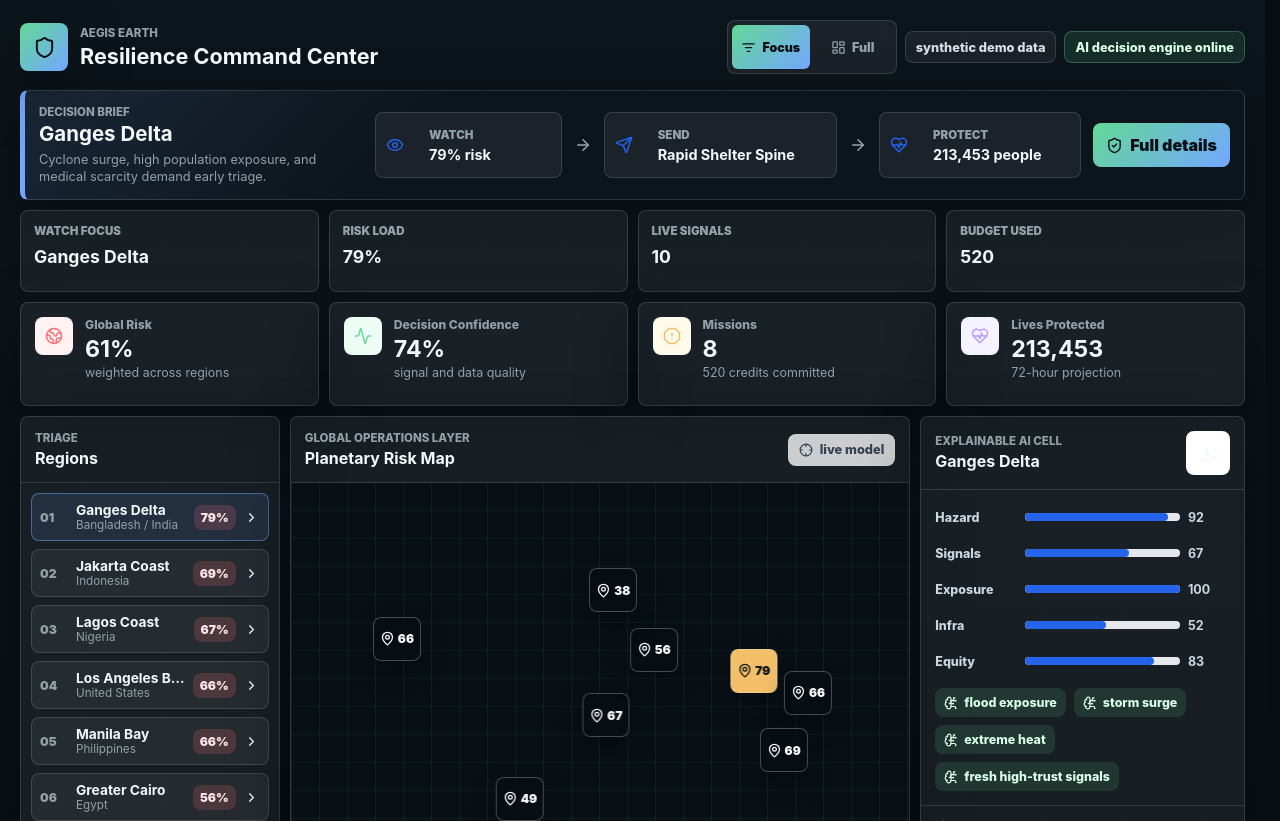
Test: Aegis Earth app › updates the selected region from the triage roster
The width and height of the screenshot is (1280, 821).
Click the button with test id "region-row-la-basin". click: (150, 685)
box: [31,661,269,709]
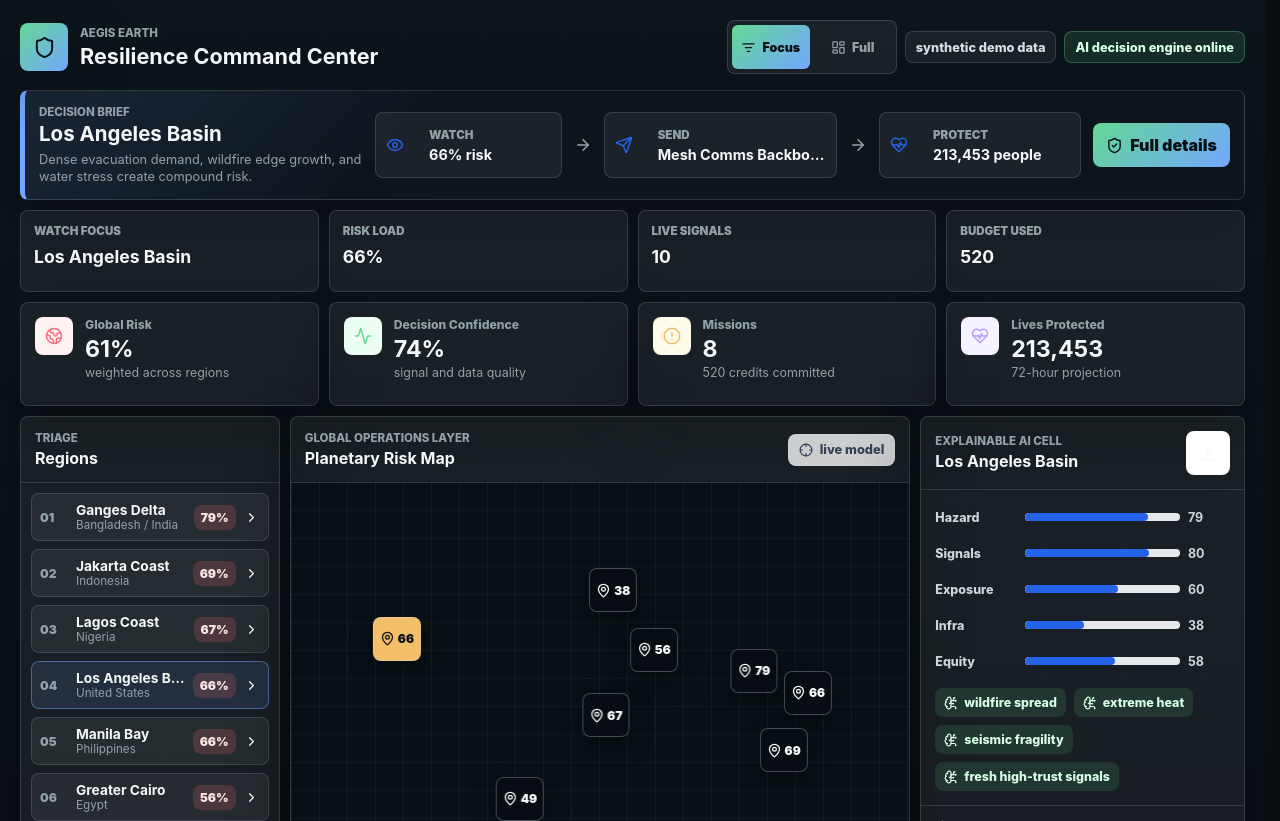
Expected: the heading "Los Angeles Basin" below "Decision brief" is shown, [39,121,222,146]
